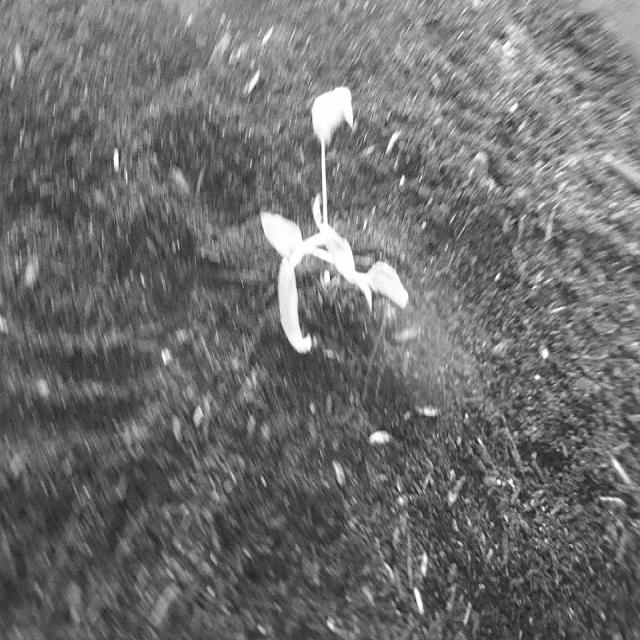Healthy: (256, 75, 414, 368)
